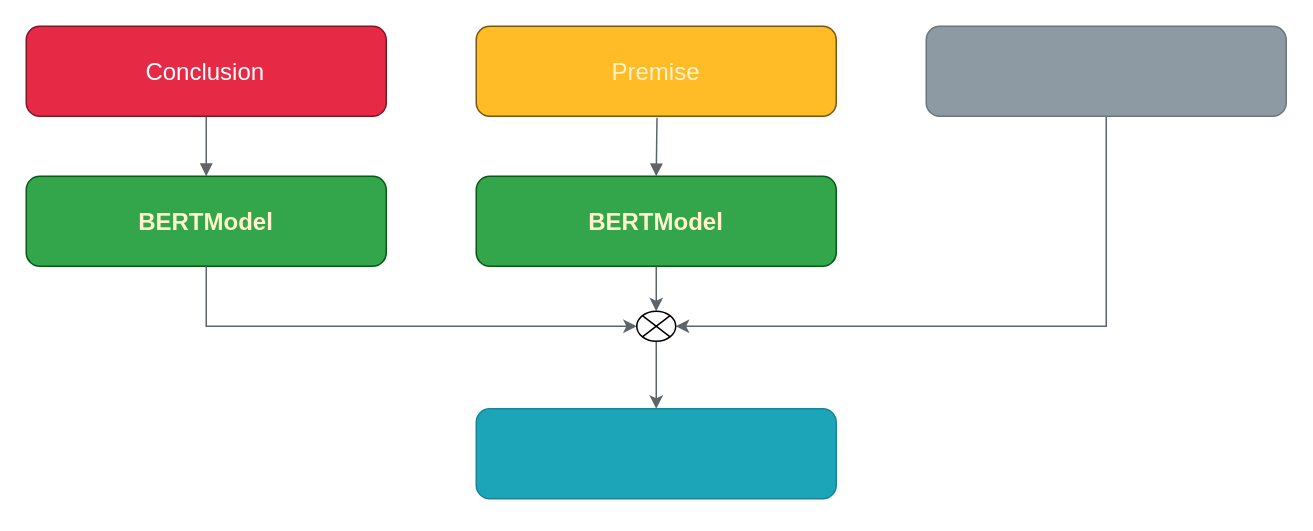
Some shapes in this 1313 by 531 pixel diagram are drawn without their labels. Each missing label, with the centre of its shape:
ClassificationHead: point (655, 453)
Stance: point (1105, 70)
